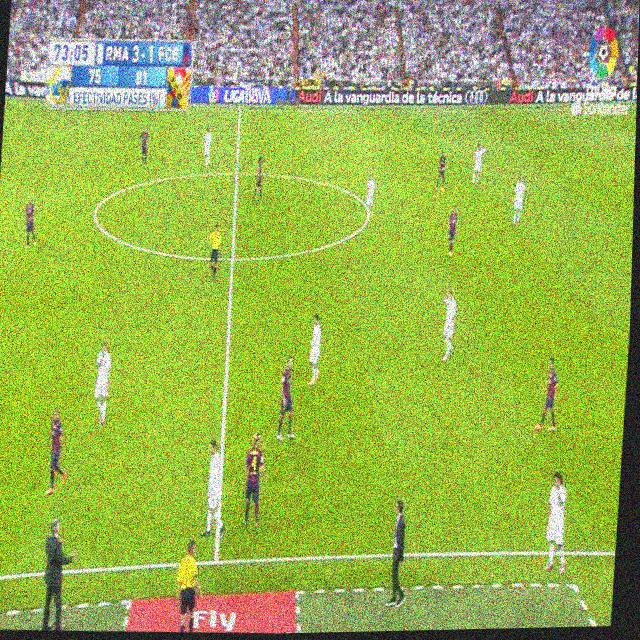halfcircle_bottom: (225, 245, 239, 270)
halfcircle_top: (231, 162, 242, 182)
midline_bottom_intersection: (208, 547, 224, 571)
midline_top_intersection: (235, 103, 243, 115)
